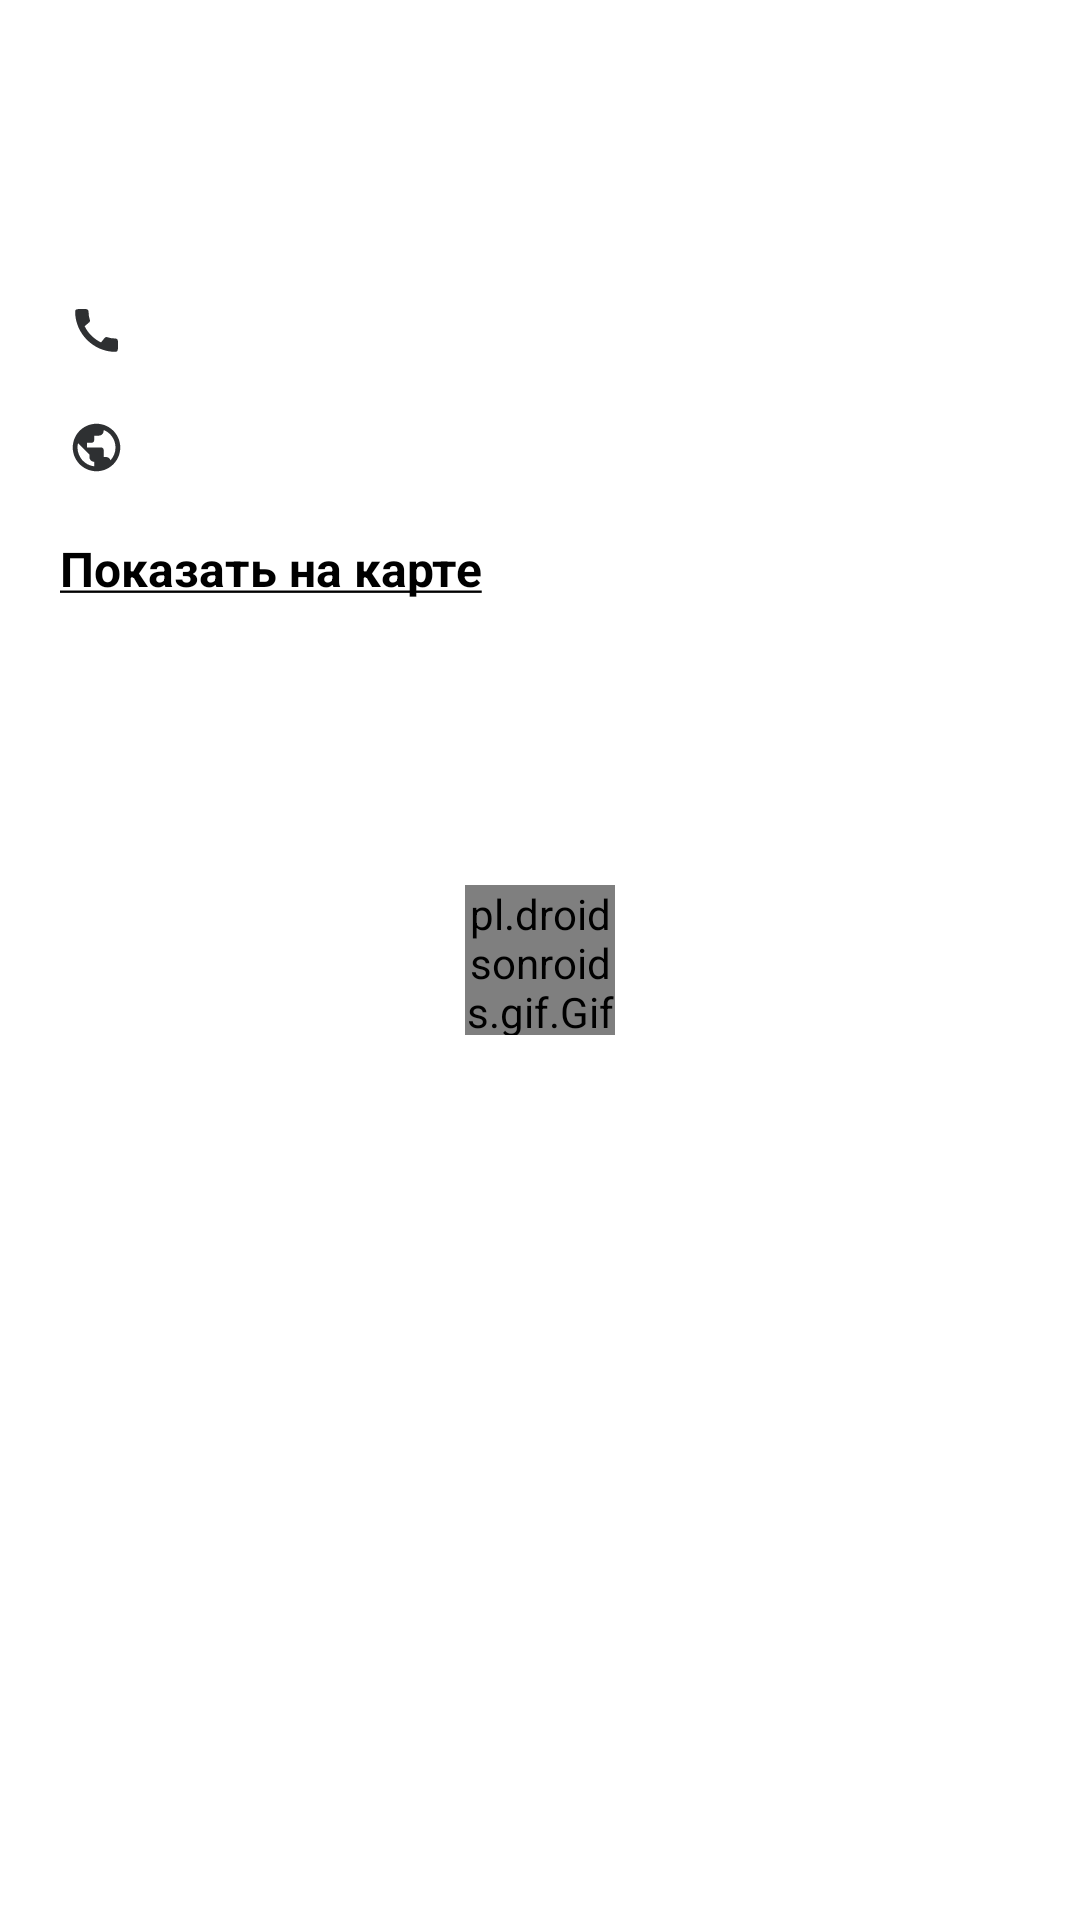

Screen size 1080px x 1920px. Icon name, then its box in pixels as Rect(x1, y1, x2, y2):
phone: Rect(75, 309, 118, 352)
website: Rect(72, 423, 121, 472)
